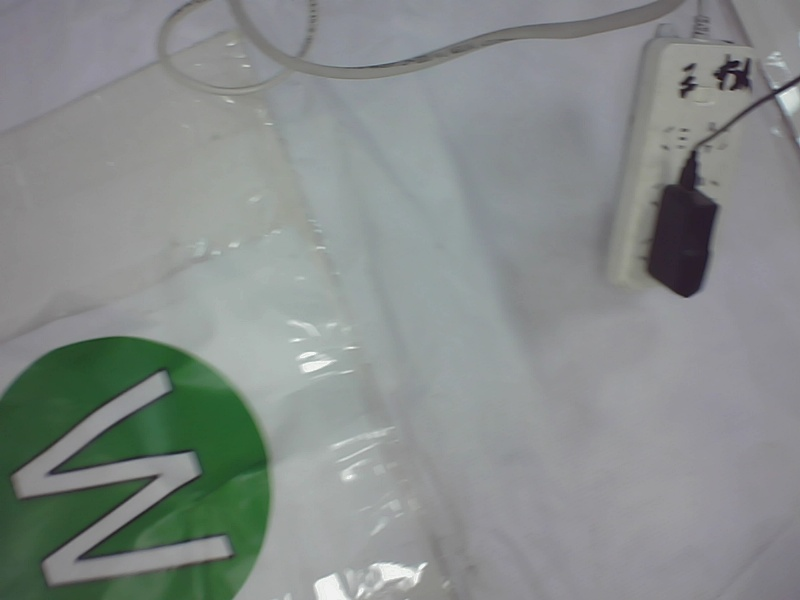areaB: (6, 330, 280, 599)
